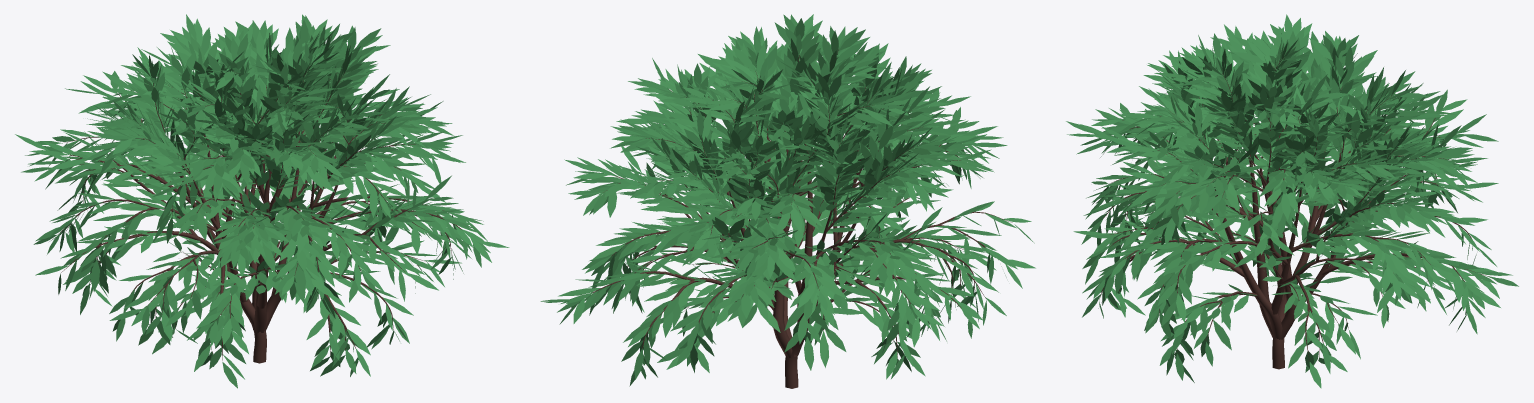
The model's file is bush3.glb.
The picture shows the model from 3 angles, left to right: view 1: azimuth 30°, elevation 25°; view 2: azimuth 150°, elevation 25°; view 3: azimuth 270°, elevation 25°; orthographic projection. The views are drawn at different scales.
Visible parts, largest first — view 1: leaves.005, bush3; view 2: leaves.005, bush3; view 3: leaves.005, bush3.
Part boxes in pixels (left/top/right/bottom): leaves.005: left=15, top=14, right=509, bottom=388; bush3: left=58, top=66, right=461, bottom=363; leaves.005: left=540, top=14, right=1035, bottom=386; bush3: left=592, top=49, right=1012, bottom=388; leaves.005: left=1066, top=14, right=1518, bottom=388; bush3: left=1099, top=58, right=1490, bottom=369.
Bounding box in the file's own units: 19.61 × 16.25 × 20.44.
